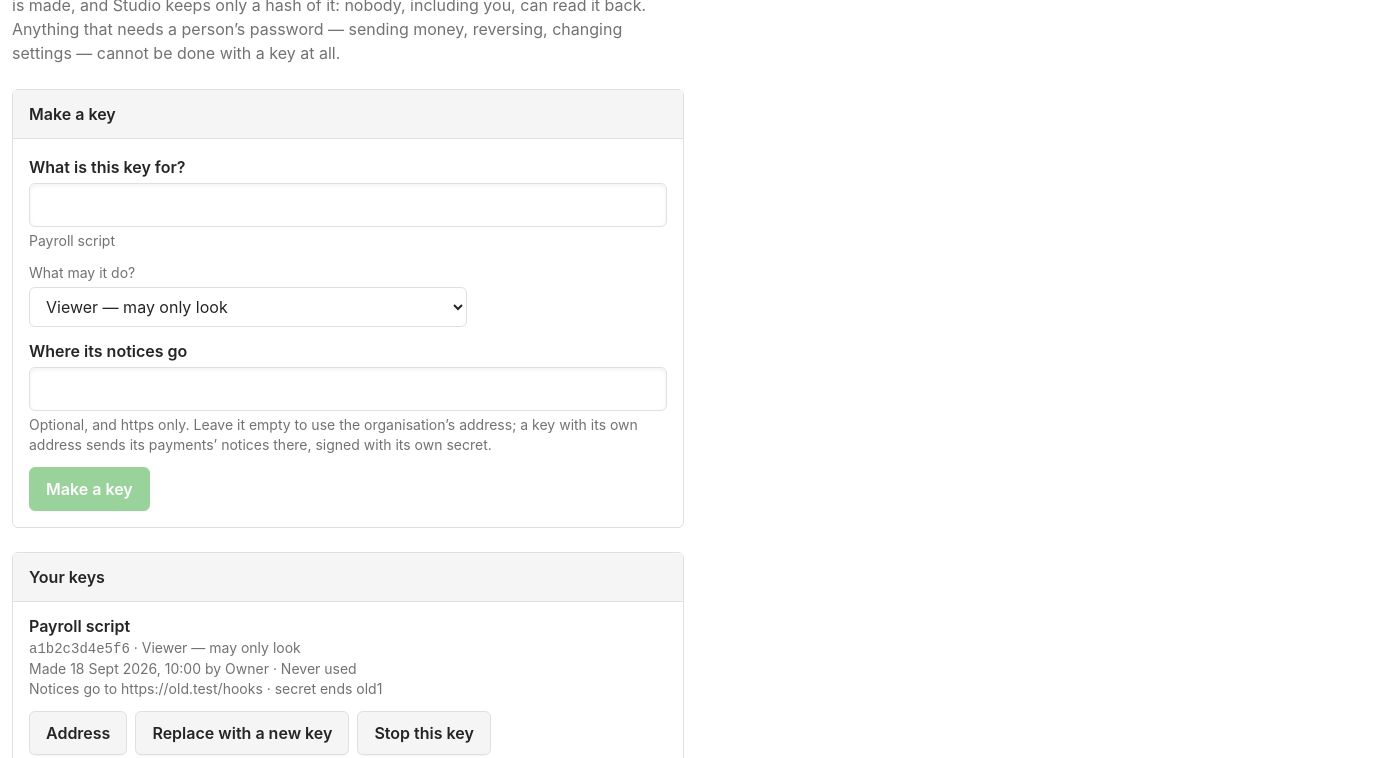
Scenario: key webhook addresses (part five) › changes a key address, keeps its secret, and can make a new one
(page scrolled)
Expected: the list item with test id "key-k1" is shown, [29,616,491,755]
Click the button "Address": (78, 733) [29,711,127,755]
(page scrolled)
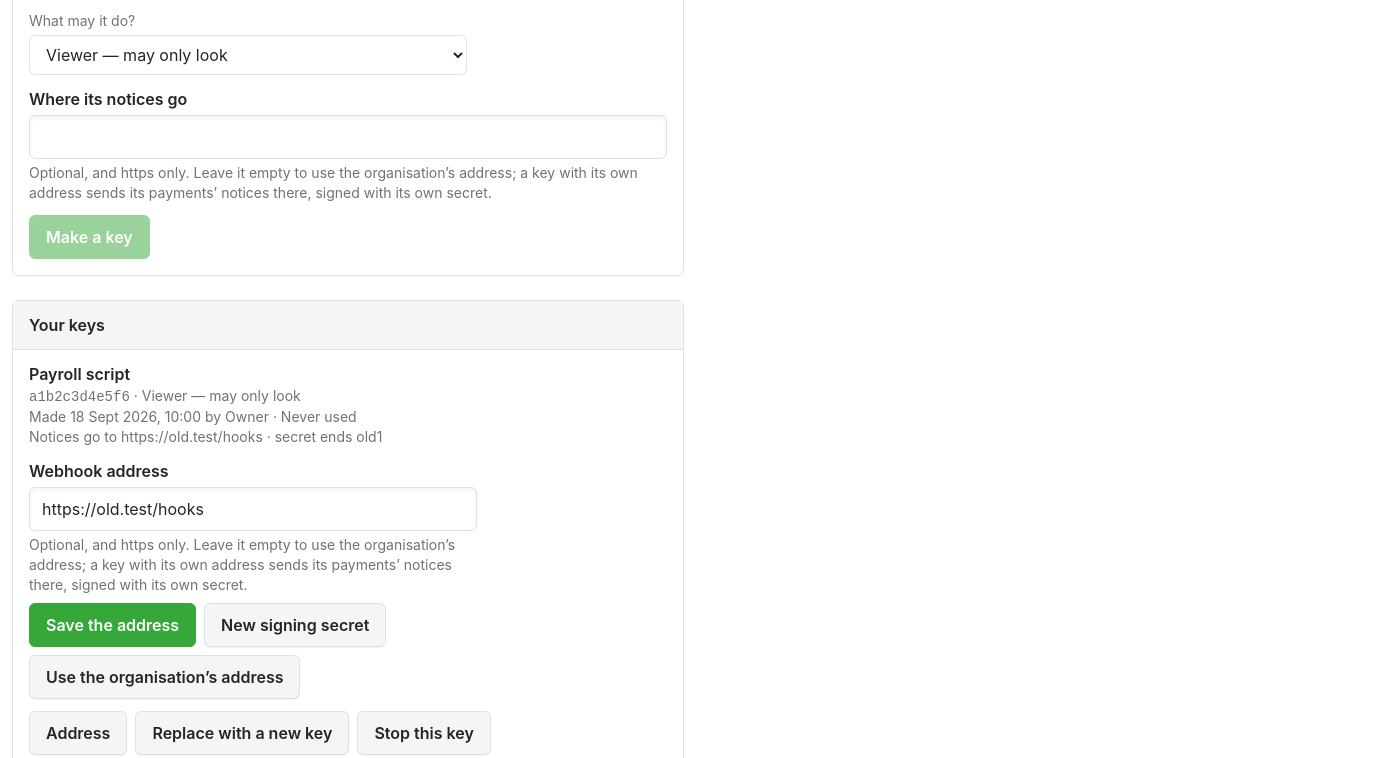
Replace the text in the field labelled "Webhook address" with "https://new.test/hooks": (253, 509) [29,487,477,531]
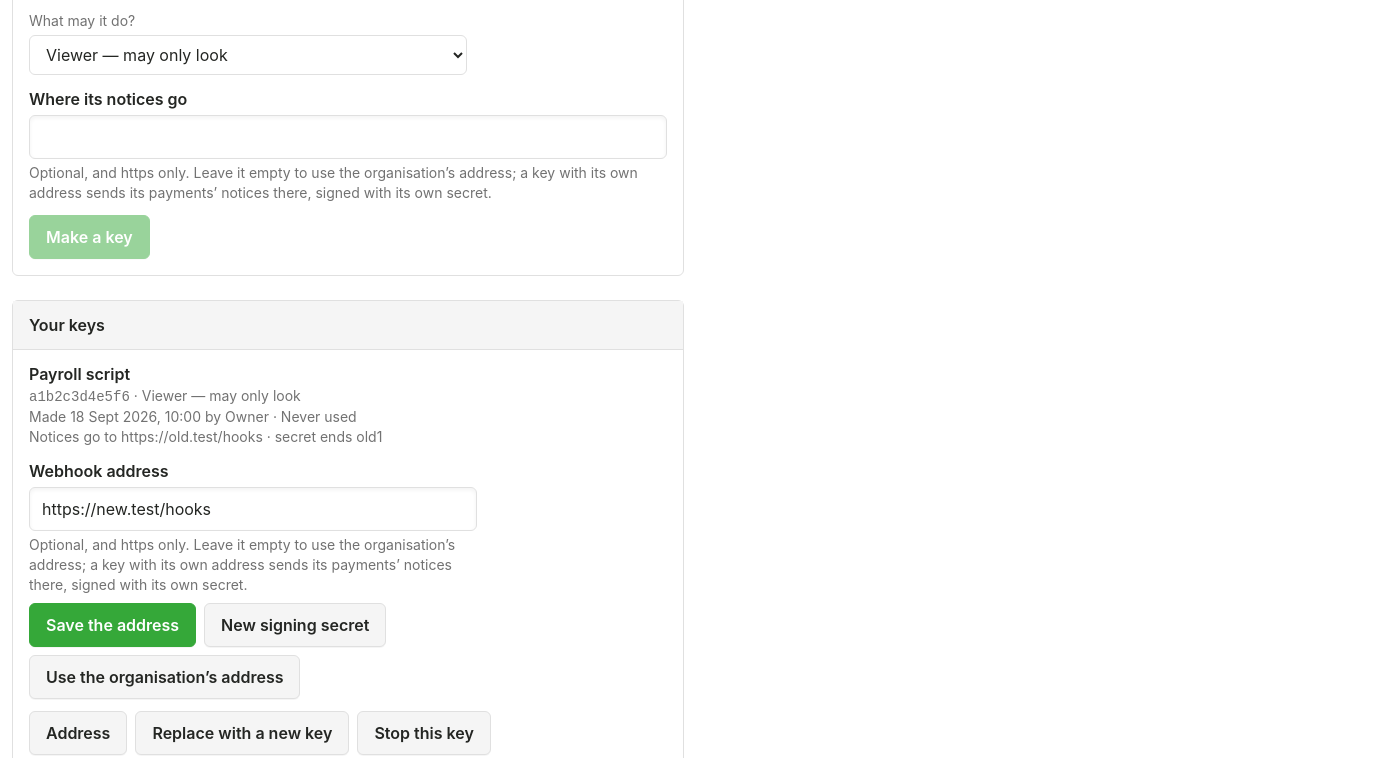
Click the button "Save the address": (113, 625) [29,603,196,647]
(page scrolled)
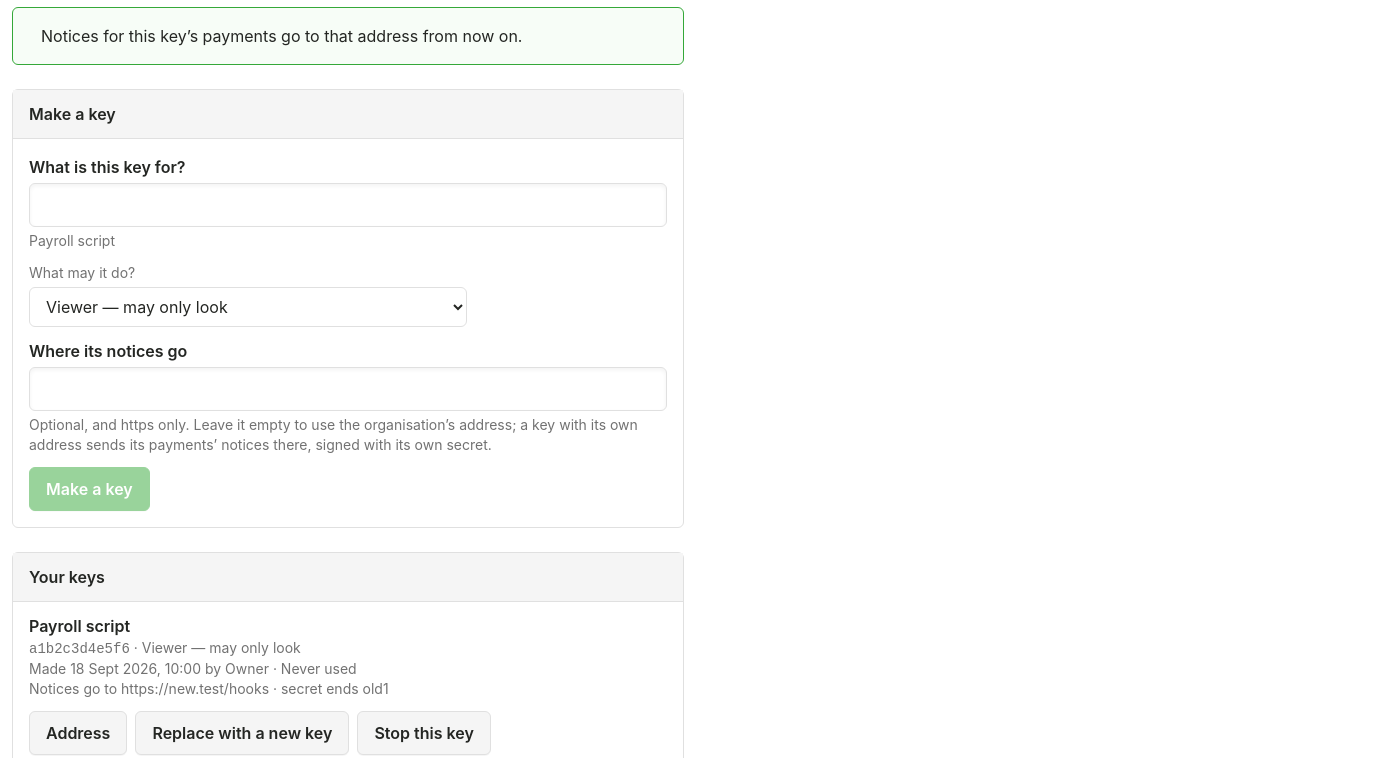
Now the text "Notices for this key’s payments go to that address from now on." is shown, box [41,26,522,46]
Now the text with test id "key-address-k1" shows "https://new.test/hooks", box [29,680,389,697]
A new signing secret is shown once, in the same panel as a key's own.
Click the button "Address": (78, 733) [29,711,127,755]
(page scrolled)
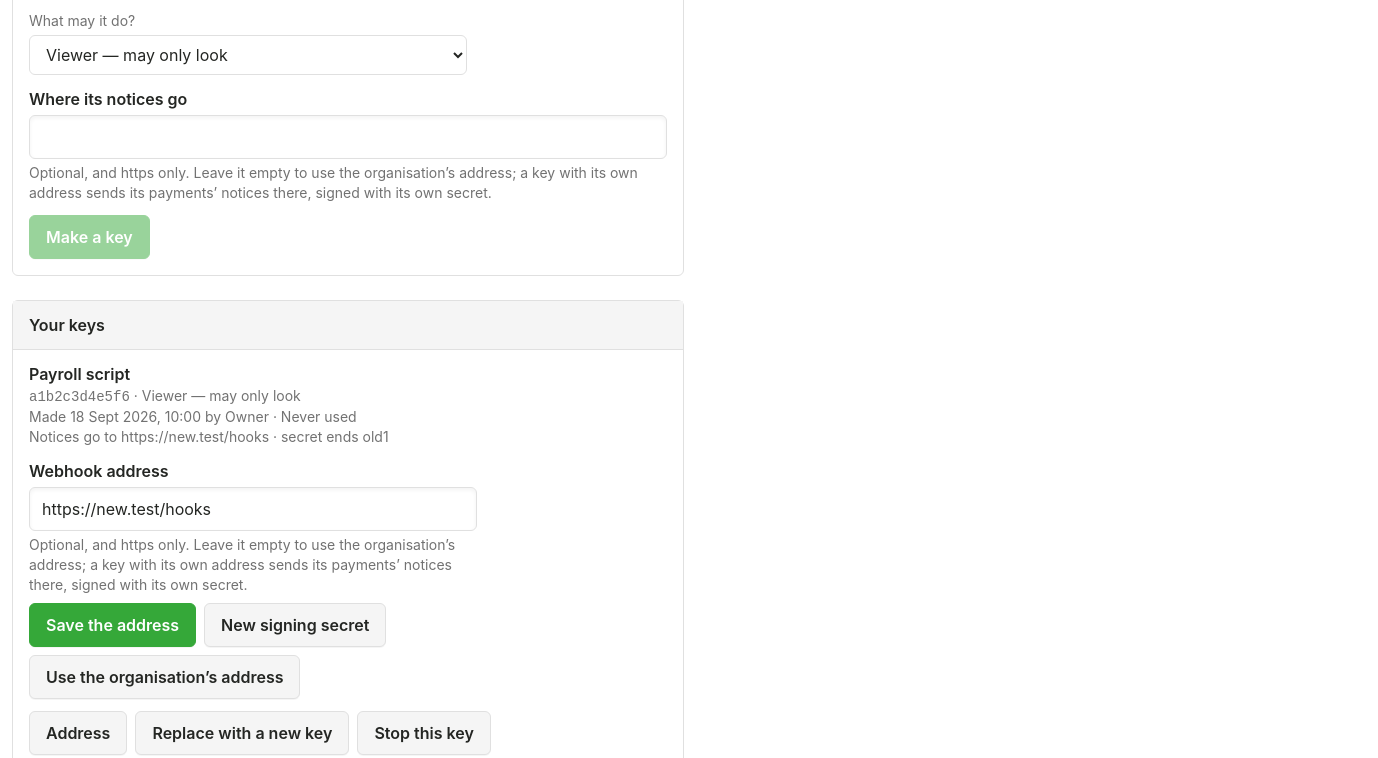
Click the button "New signing secret": (295, 625) [204,603,386,647]
(page scrolled)
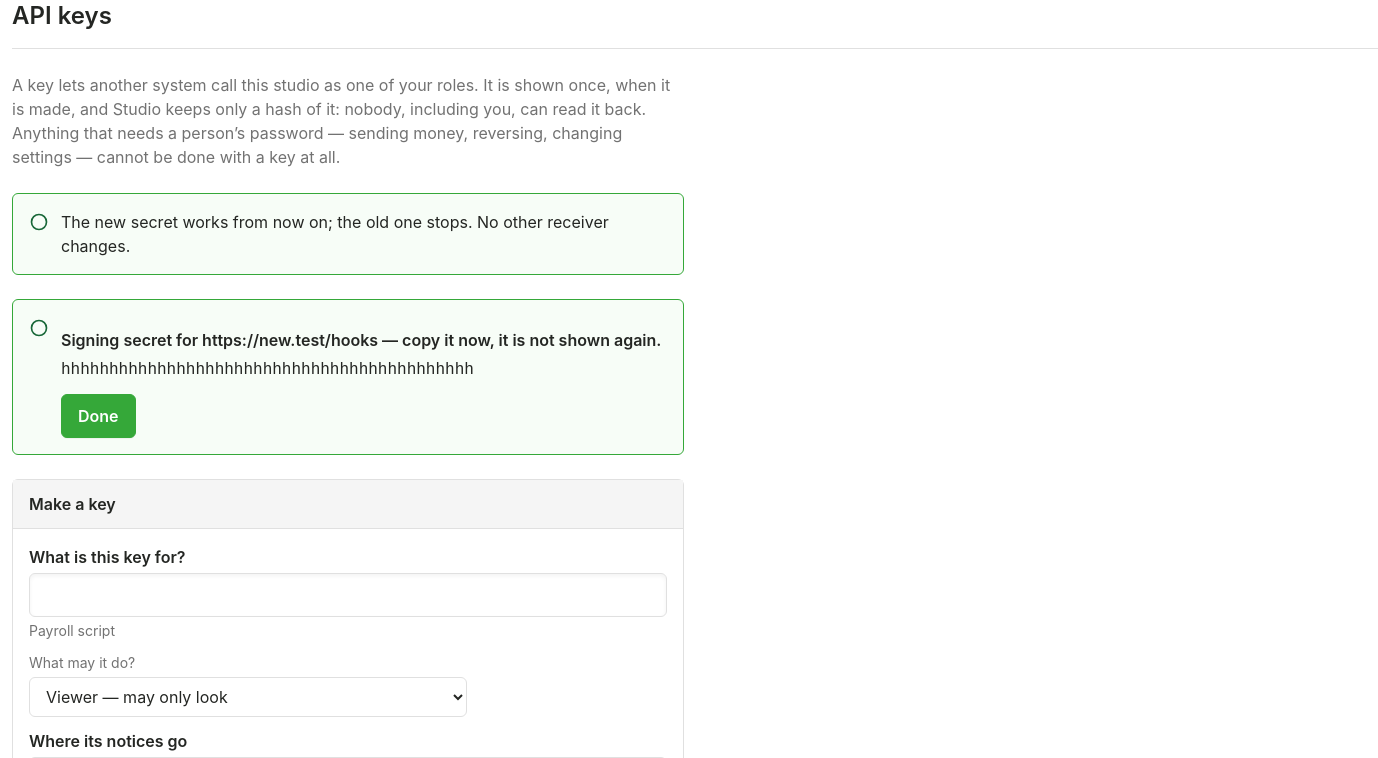
Now the text "The new secret works from now on; the old one stops. No other receiver changes." is shown, box [61,210,667,258]
